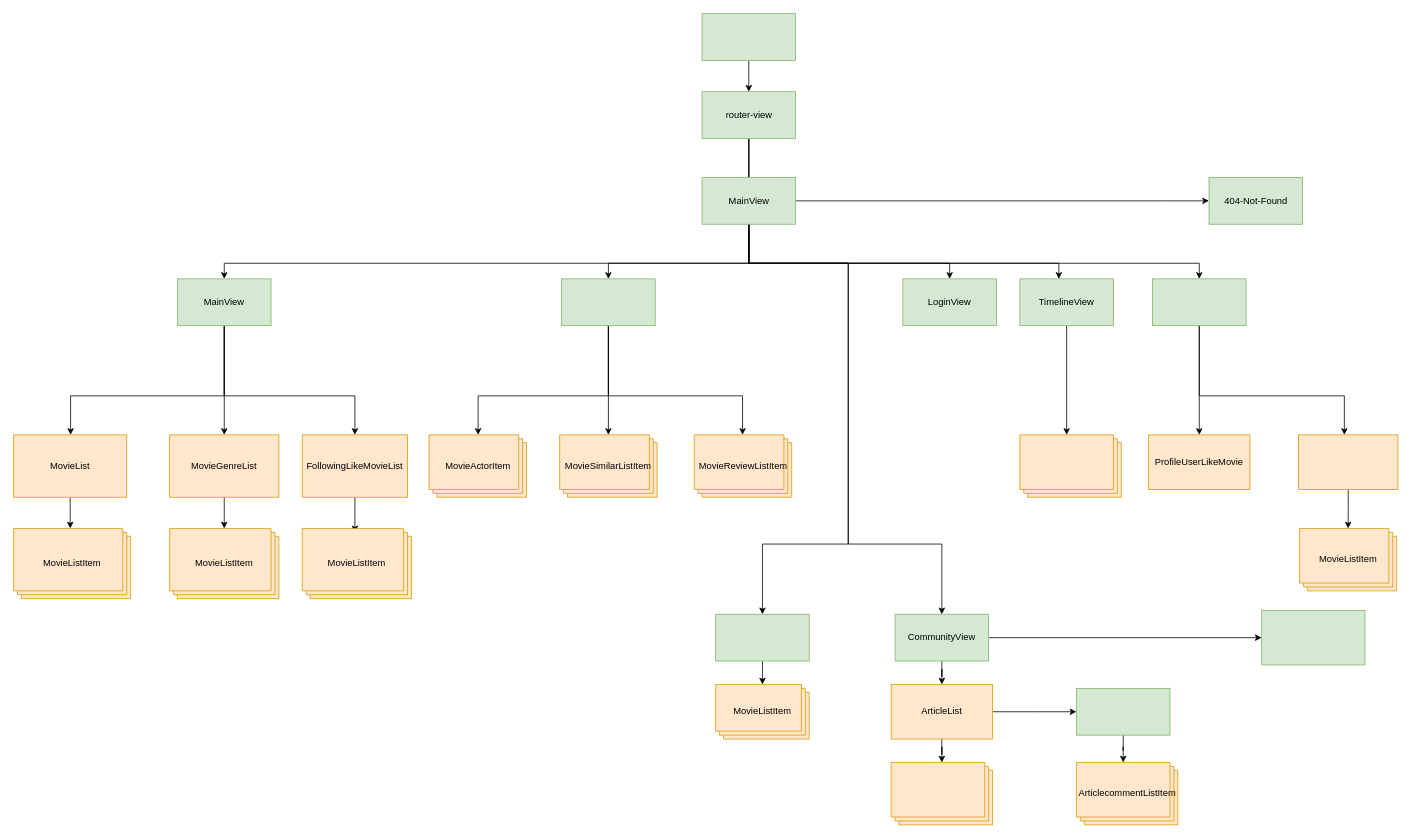
This 1413x838 diagram has some shape labels left out. Here are the shapes that lost their labels. From the top down, the box of each, then its label:
(701, 13, 796, 60): APP
(561, 278, 655, 326): DetailView
(1152, 278, 1246, 326): ProfileView
(1019, 434, 1121, 497): TimelineItems
(1298, 434, 1398, 489): ProfileUserReviewMovie
(715, 613, 809, 661): SearchView
(1261, 610, 1365, 665): CreateView
(1076, 688, 1170, 735): ArticleDetailView
(890, 762, 993, 825): ArticleListItem
